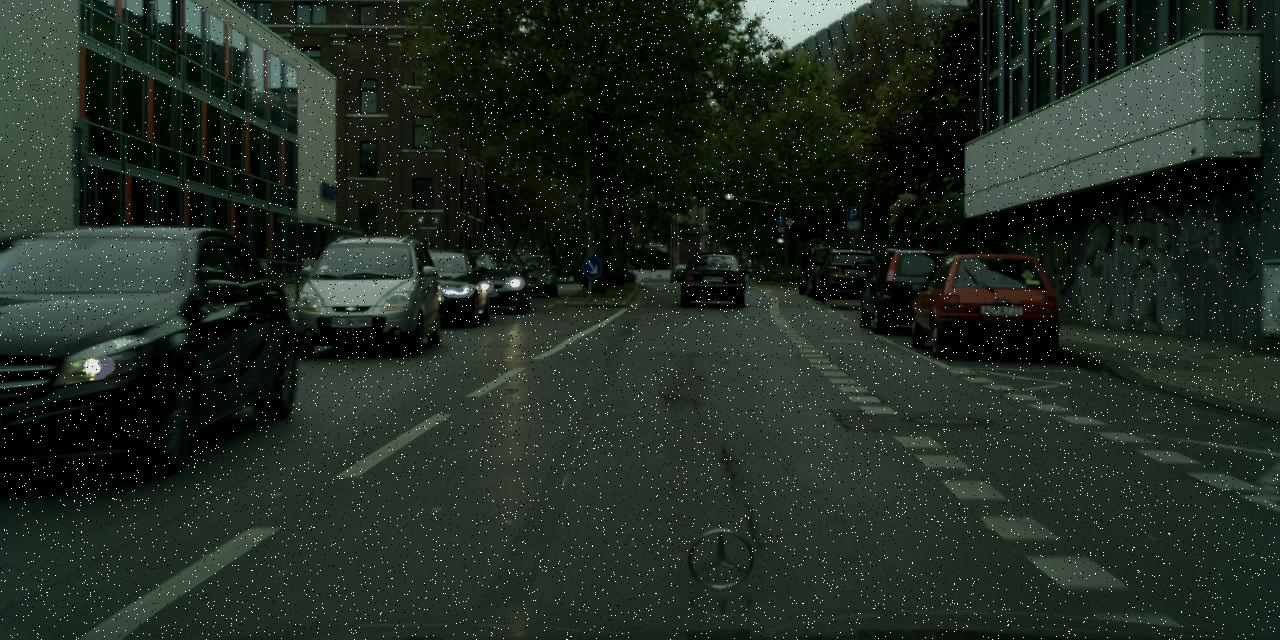ped: (750, 259, 759, 282), (757, 261, 764, 281)
